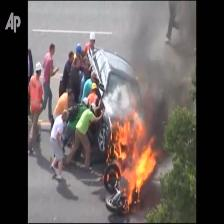fire: (111, 109, 160, 206)
